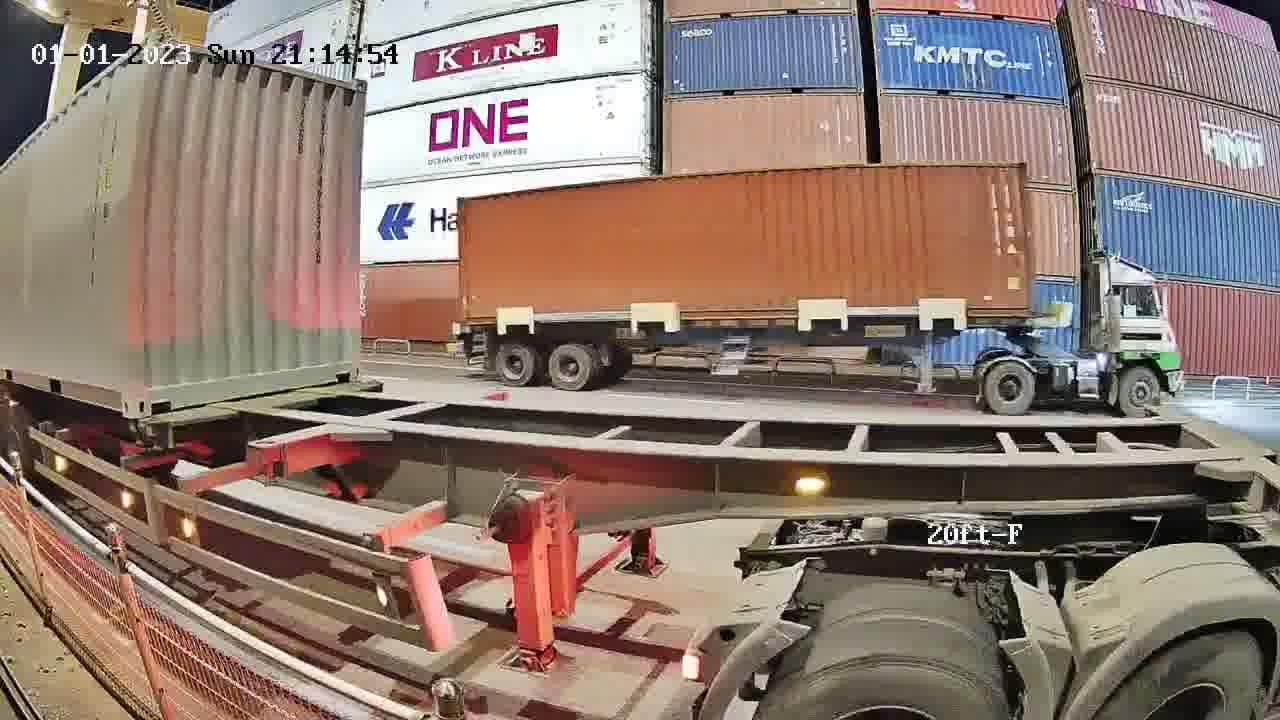Cone: (124, 419, 155, 452)
Hole_L: (133, 364, 183, 417)
Hole_R: (103, 367, 134, 419), (326, 340, 362, 383)
Tire: (1094, 633, 1267, 719), (759, 660, 1012, 715)
